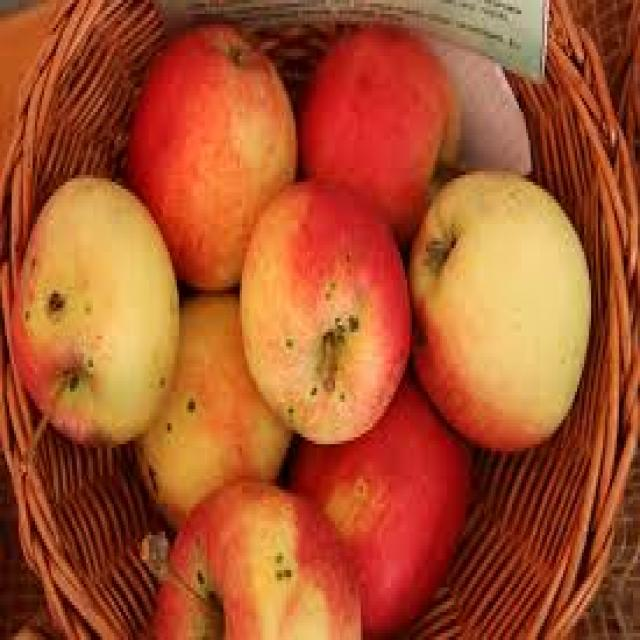organic waste: (407, 164, 591, 455), (7, 174, 177, 476), (288, 364, 474, 636), (235, 175, 407, 444), (126, 21, 296, 290), (135, 472, 358, 637), (130, 290, 291, 518), (300, 25, 461, 242)
